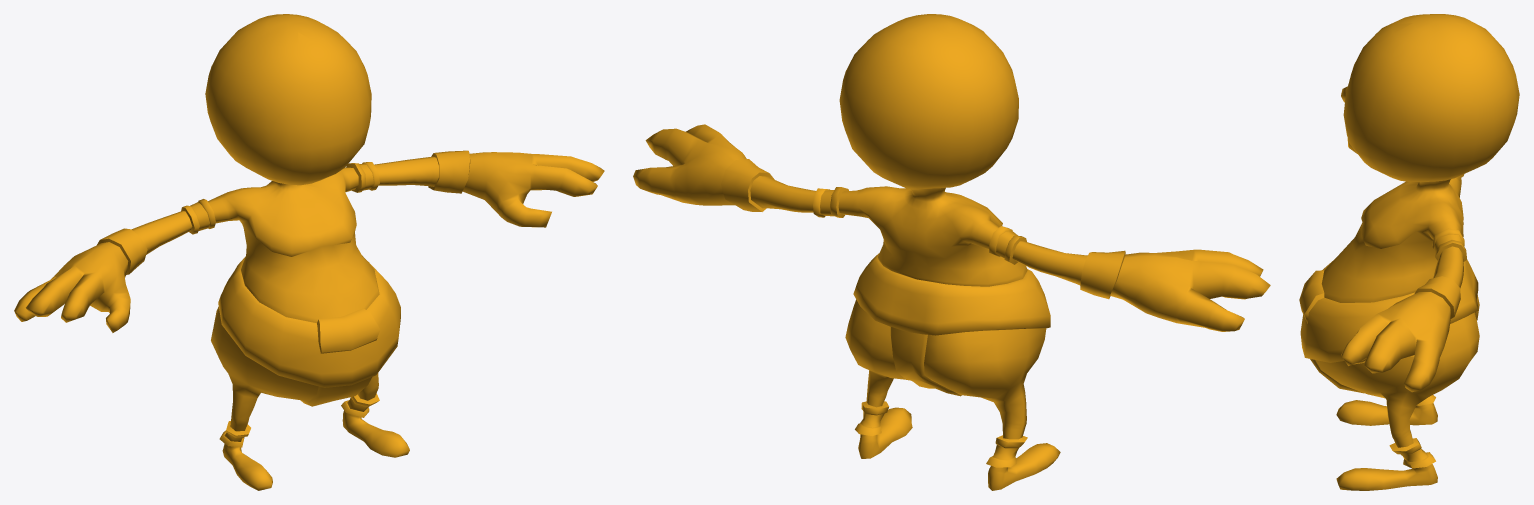
File: SM_BodyUnwrapped.FBX
3 views of the same model, side by side, from view 1: azimuth 30°, elevation 25°; view 2: azimuth 150°, elevation 25°; view 3: azimuth 270°, elevation 25° (orthographic). The views are drawn at different scales.
Parts seen in each view (by area): view 1: Unwrapped; view 2: Unwrapped; view 3: Unwrapped.
Part boxes in pixels (bbox=[...]): Unwrapped: bbox=[14, 14, 604, 490]; Unwrapped: bbox=[633, 14, 1270, 490]; Unwrapped: bbox=[1299, 14, 1519, 490].
Bounding box in the file's own units: 285 × 91.55 × 197.
